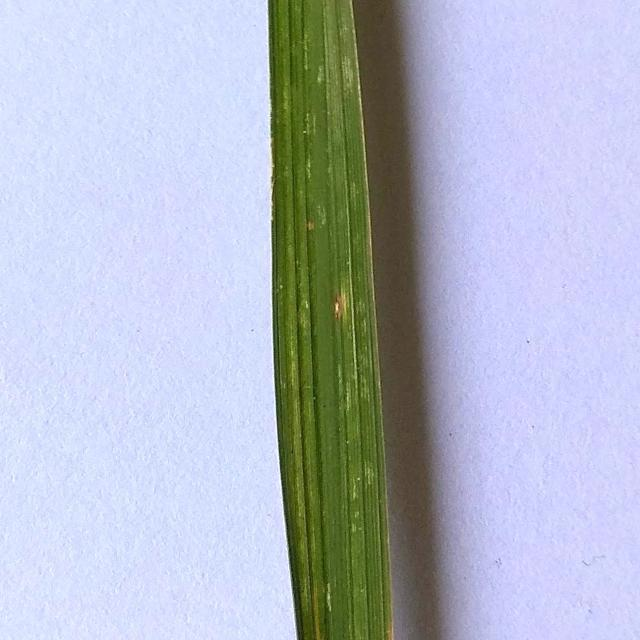Blast: (333, 296, 357, 319)
